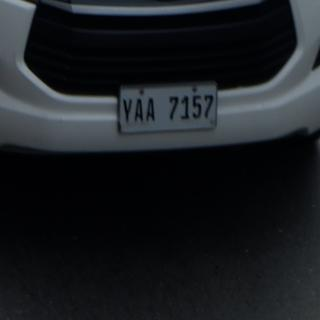license: (119, 83, 218, 134)
